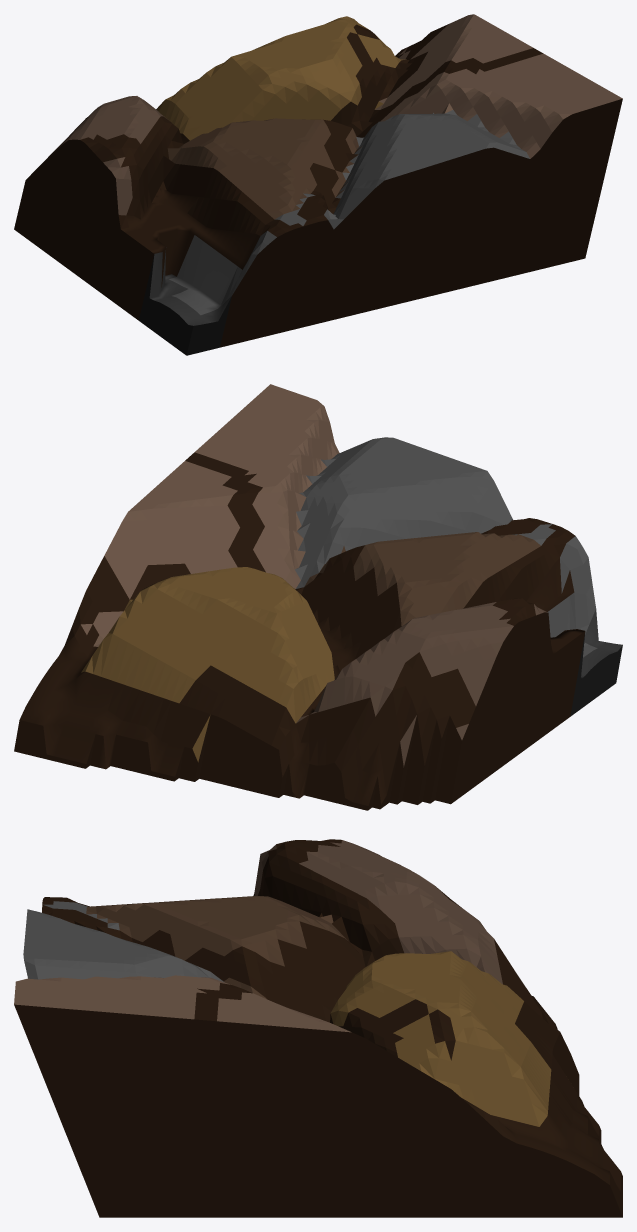
File: ixm_boss_161.glb
3 renders of one model, top to bottom at view 1: azimuth 30°, elevation 25°; view 2: azimuth 150°, elevation 25°; view 3: azimuth 270°, elevation 25°, orthographic. The views are drawn at different scales.
Visible parts, largest first — view 1: ixm_boss_161; view 2: ixm_boss_161; view 3: ixm_boss_161.
Boxes of the visible parts, x1=… form: ixm_boss_161: x1=14, y1=14, x2=622, y2=355; ixm_boss_161: x1=14, y1=384, x2=622, y2=810; ixm_boss_161: x1=14, y1=839, x2=622, y2=1217.
Size of the model in its own units: 24 by 10.79 by 27.93.
